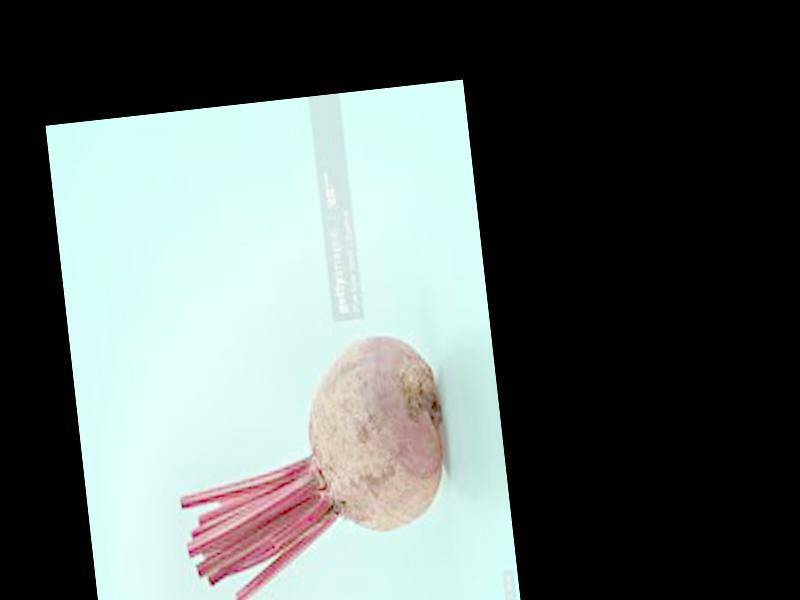Beet: (167, 330, 460, 600)
